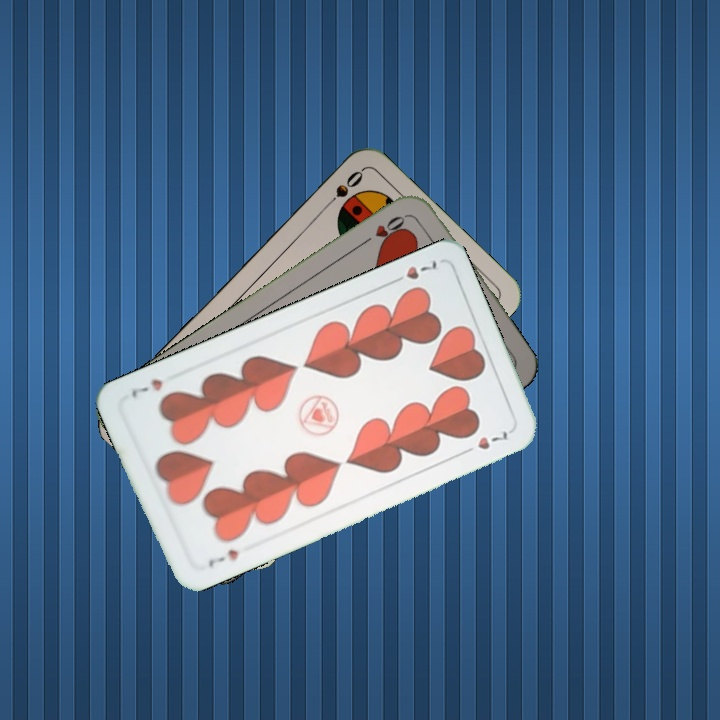H7: (386, 256, 440, 287), (204, 545, 241, 570)
HO: (358, 210, 411, 249)
SO: (319, 166, 366, 212)
